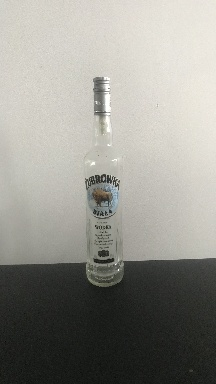butelka: (81, 73, 125, 289)
